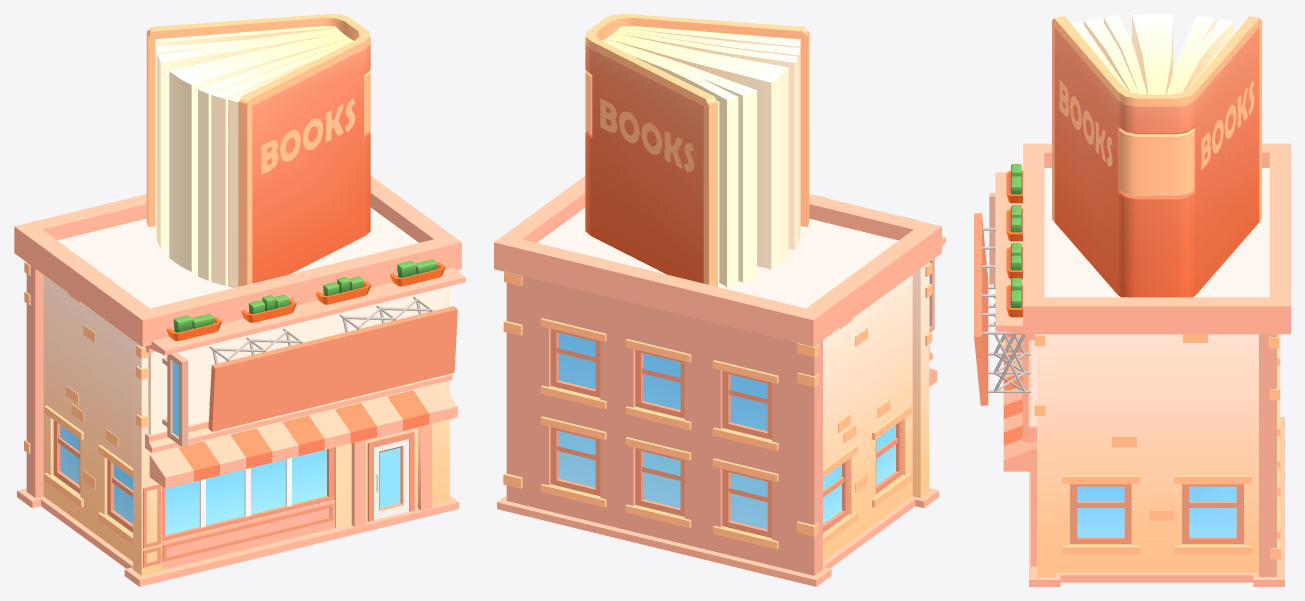
The model's file is city2-building-service-09.glb.
3 renders of one model, left to right at view 1: azimuth 30°, elevation 25°; view 2: azimuth 150°, elevation 25°; view 3: azimuth 270°, elevation 25°, orthographic. The views are drawn at different scales.
Parts seen in each view (by area): view 1: Building_Service_09; view 2: Building_Service_09; view 3: Building_Service_09.
Part boxes in pixels (x1=…): Building_Service_09: x1=14, y1=14, x2=465, y2=586; Building_Service_09: x1=494, y1=14, x2=945, y2=586; Building_Service_09: x1=974, y1=14, x2=1290, y2=586.
Size of the model in its own units: 9.86 by 13.24 by 8.11.
Materials: 1 (1 with a texture image).
